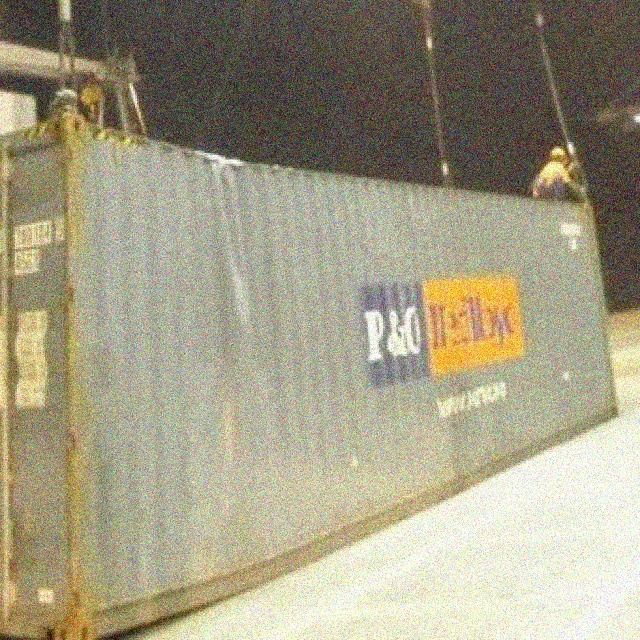Dent: (213, 174, 253, 370), (209, 152, 277, 171)
